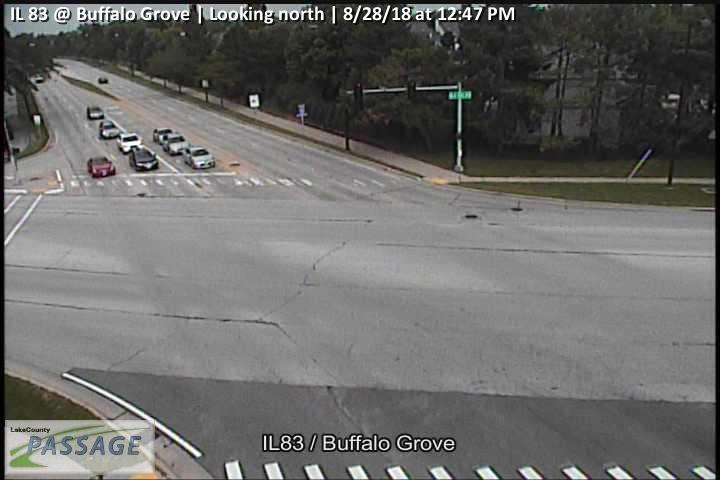SUV: (116, 133, 143, 155), (99, 121, 120, 138)
Sedan: (128, 148, 159, 171), (185, 147, 215, 169), (87, 156, 116, 178), (162, 133, 189, 155), (88, 107, 104, 119)
